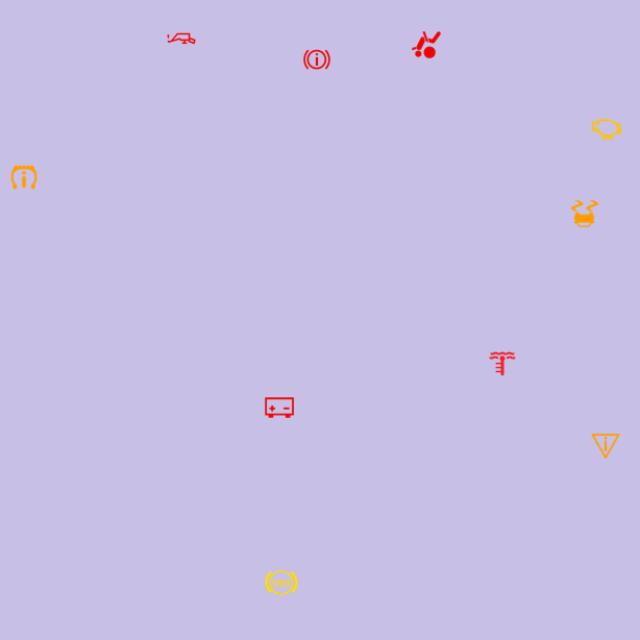Anti Lock Braking System: (264, 564, 300, 600)
Braking System Issue: (299, 42, 335, 78)
Charging System Issue: (262, 390, 298, 426)
Check Engine: (588, 111, 624, 148)
Electronic Stability Problem -ESP-: (567, 196, 603, 232)
Engine Overheating Warning Light: (484, 346, 520, 382)
Low Engine Oil Warning Light: (163, 20, 200, 56)
Low Tire Pressure Warning Light: (6, 159, 42, 195)
Master warning light: (588, 428, 624, 464)
SRS-Airbag: (408, 27, 444, 63)
